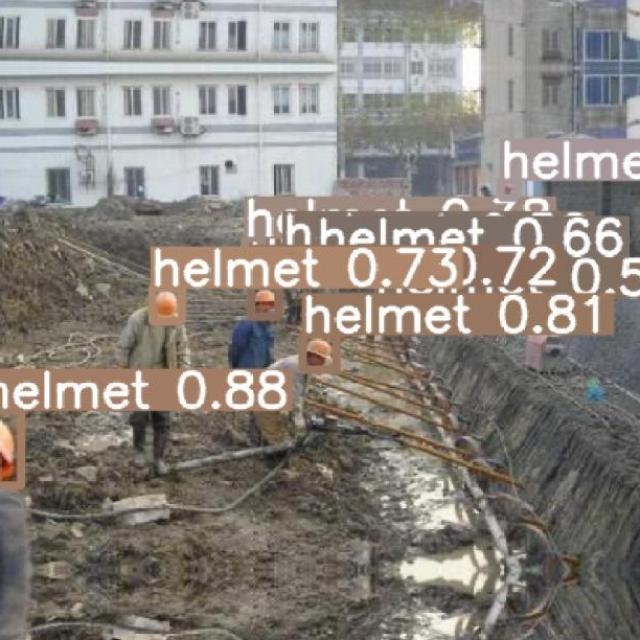helmet: (154, 291, 176, 316), (306, 339, 332, 359), (254, 289, 275, 304)
